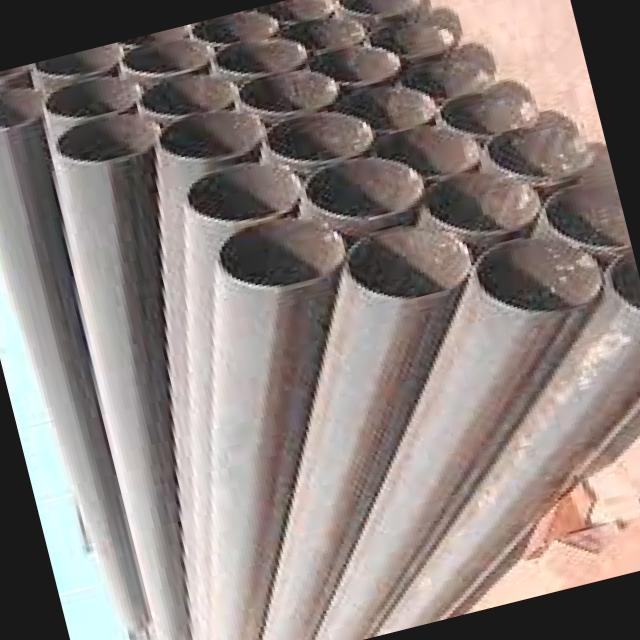gas: (317, 254, 640, 640), (260, 225, 471, 640), (0, 86, 146, 628), (54, 113, 190, 640), (211, 217, 346, 640), (186, 160, 300, 486)
